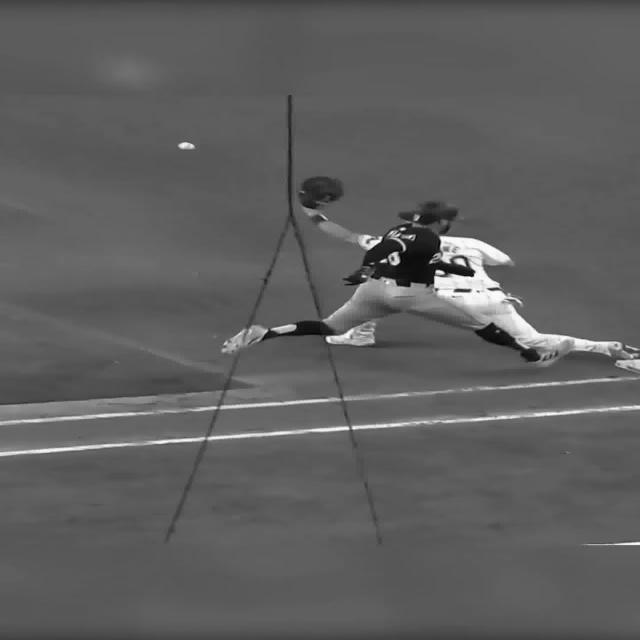base: (613, 358, 639, 373)
baseball: (177, 142, 195, 150)
baseball_glove: (297, 176, 343, 208)
shoe: (520, 336, 574, 368), (220, 324, 269, 354), (324, 320, 376, 346), (324, 334, 375, 346)
